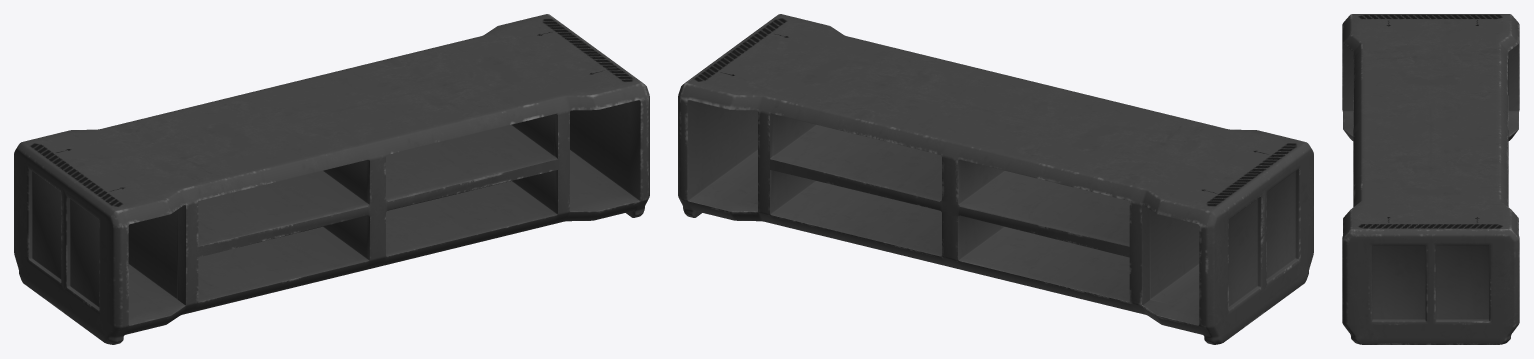
Rendered from Table_KevinBonner.fbx.
The picture shows the model from 3 angles, left to right: view 1: azimuth 30°, elevation 25°; view 2: azimuth 150°, elevation 25°; view 3: azimuth 270°, elevation 25°; orthographic projection. The views are drawn at different scales.
Parts seen in each view (by area): view 1: table_low; view 2: table_low; view 3: table_low.
Boxes of the visible parts, x1=… form: table_low: x1=14, y1=14, x2=649, y2=344; table_low: x1=678, y1=14, x2=1313, y2=344; table_low: x1=1342, y1=14, x2=1519, y2=344.
Bounding box in the file's own units: 414 × 100 × 141.
